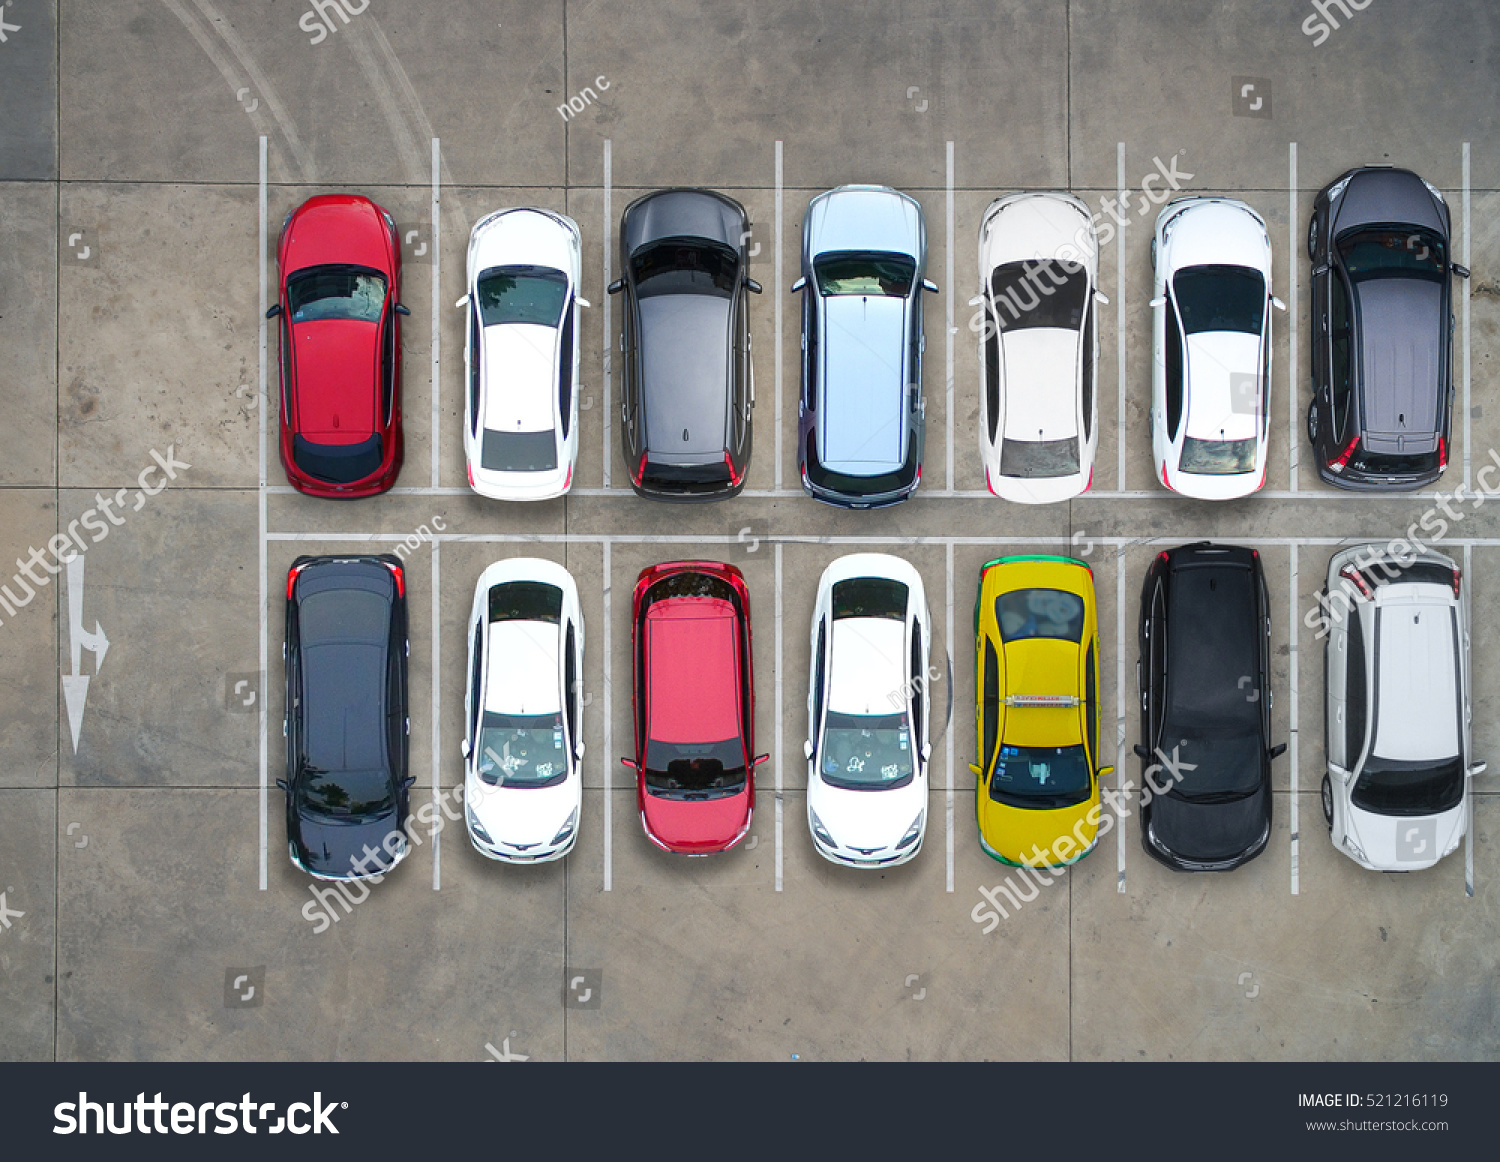Car: (1300, 160, 1460, 497), (1320, 544, 1470, 883), (791, 172, 937, 513), (964, 555, 1107, 878), (446, 555, 591, 871), (797, 555, 935, 881), (278, 185, 412, 505), (978, 186, 1106, 509), (1146, 195, 1276, 505), (457, 203, 586, 509), (639, 555, 759, 865)
LaneMark: (267, 530, 1500, 547), (254, 132, 269, 892), (599, 532, 616, 894), (771, 134, 787, 488), (600, 132, 616, 485), (1113, 533, 1127, 901), (944, 134, 958, 490), (944, 541, 957, 904), (772, 532, 785, 894), (429, 132, 442, 486), (1114, 136, 1127, 490), (429, 530, 441, 890), (1291, 541, 1300, 896), (1291, 134, 1300, 484), (1462, 144, 1471, 495), (1265, 488, 1500, 498)
